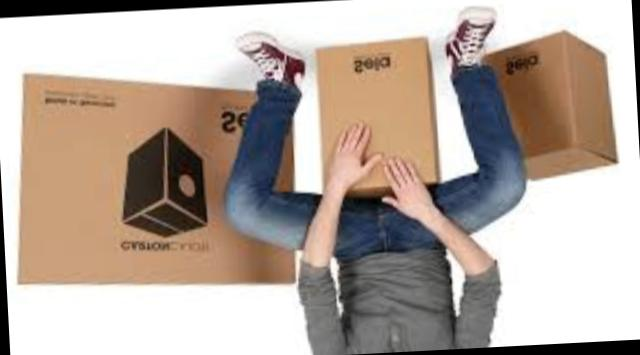cardboard paper: (16, 78, 289, 286), (487, 33, 613, 178), (313, 45, 432, 185)
